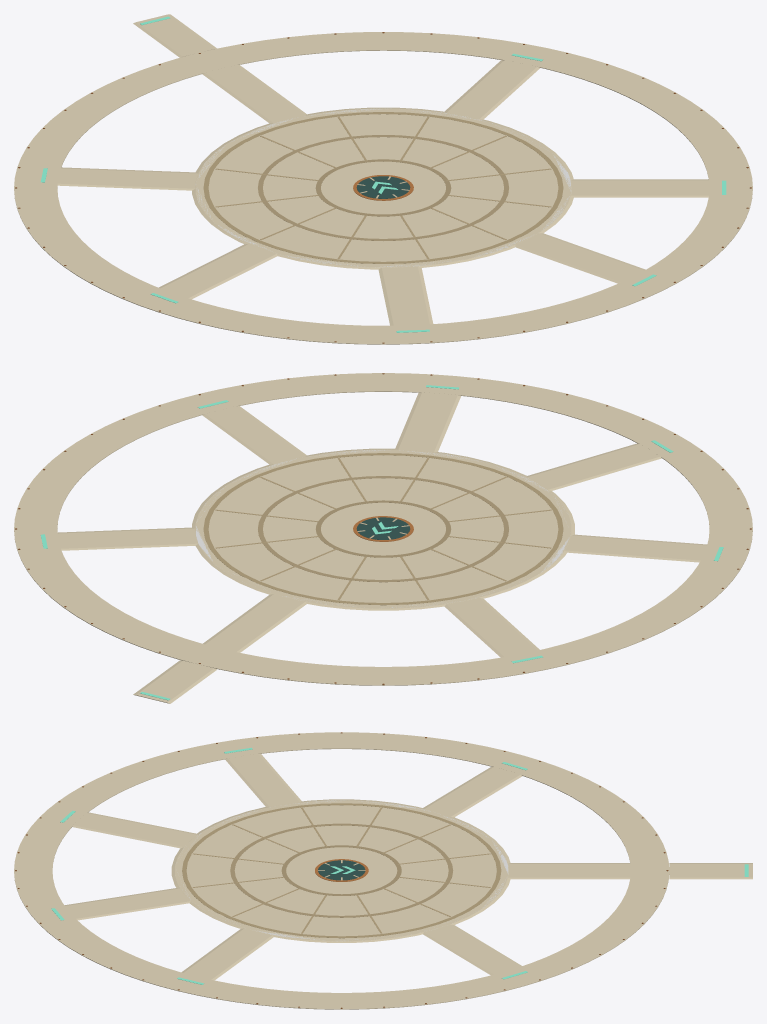
The model's file is camp_plaza.glb.
3 renders of one model, top to bottom at view 1: azimuth 30°, elevation 25°; view 2: azimuth 150°, elevation 25°; view 3: azimuth 270°, elevation 25°, orthographic. The views are drawn at different scales.
Parts seen in each view (by area): view 1: Body, camp_plaza-col-col; view 2: Body, camp_plaza-col-col; view 3: Body, camp_plaza-col-col.
Boxes of the visible parts, x1,y1,x2,y2 form: Body: (14, 14, 752, 344); camp_plaza-col-col: (195, 108, 571, 267); Body: (14, 373, 752, 703); camp_plaza-col-col: (196, 450, 570, 607); Body: (14, 732, 752, 1009); camp_plaza-col-col: (177, 800, 508, 941).
Size of the model in its own units: 102 by 0.175 by 115.
